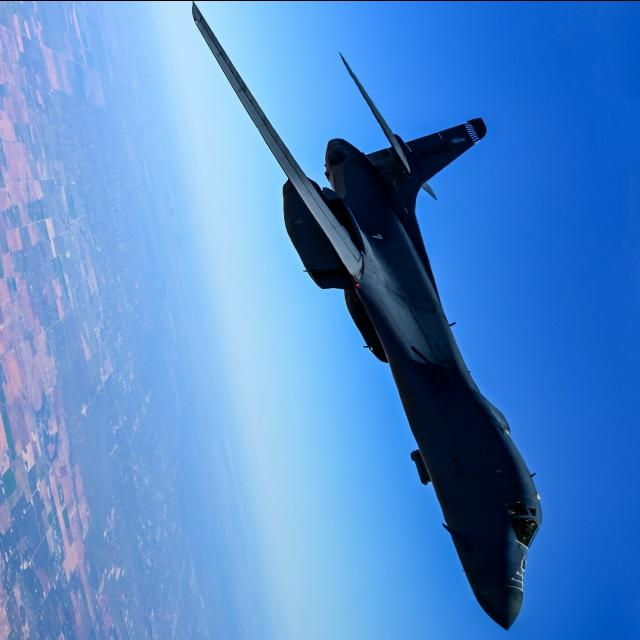B1: (141, 0, 588, 632)
